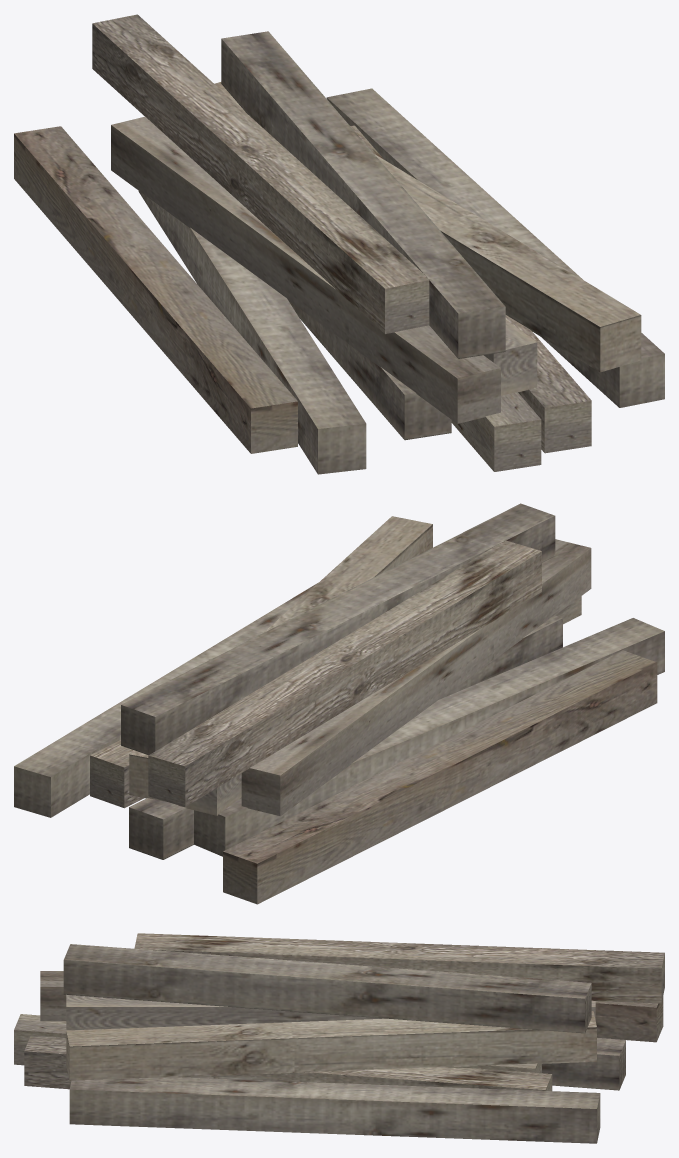
The model's file is lena.glb.
3 renders of one model, top to bottom at view 1: azimuth 30°, elevation 25°; view 2: azimuth 150°, elevation 25°; view 3: azimuth 270°, elevation 25°, orthographic. The views are drawn at different scales.
Parts seen in each view (by area): view 1: Modelo; view 2: Modelo; view 3: Modelo.
Part boxes in pixels (x1,y1,x2,y2): Modelo: (14, 14, 664, 474); Modelo: (14, 503, 664, 904); Modelo: (14, 933, 664, 1143).
Bounding box in the file's own units: 1.66 × 0.5124 × 2.92.
Materials: 1 (1 with a texture image).
